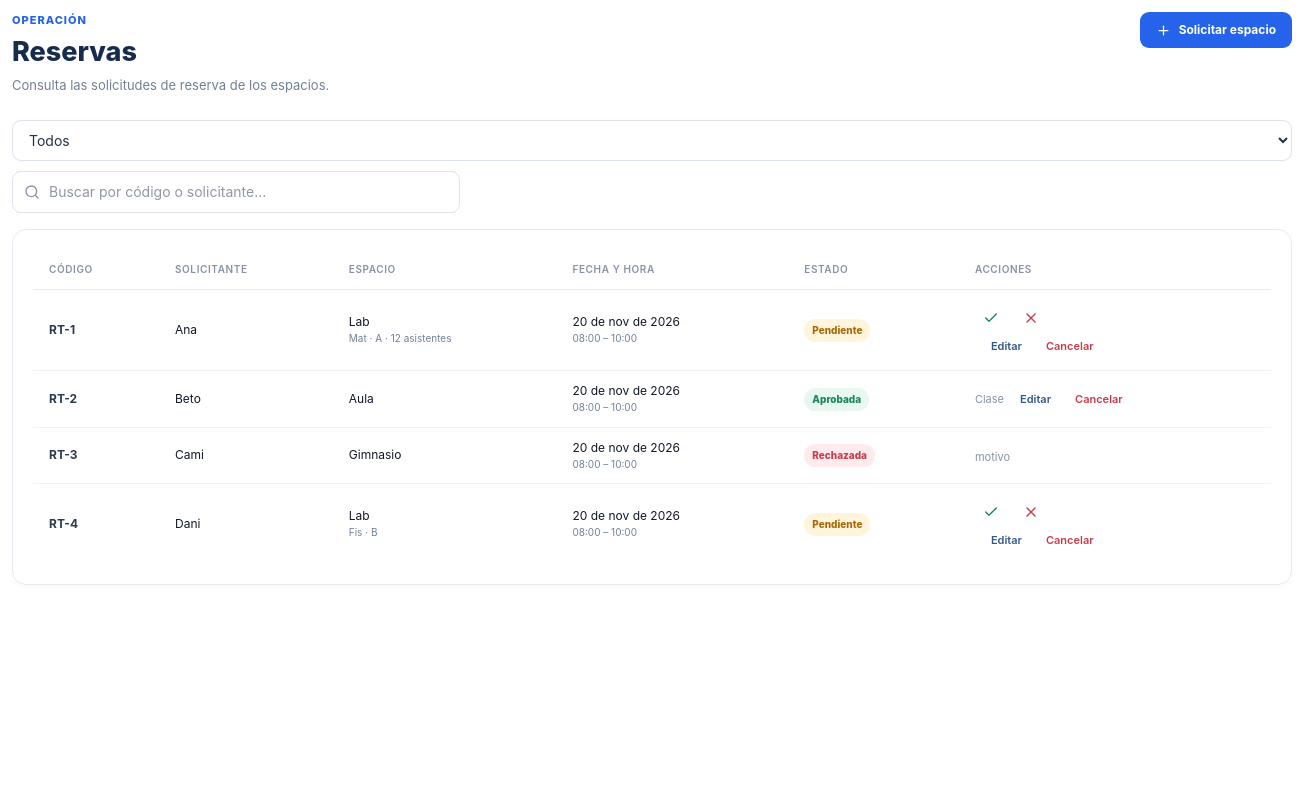
Test case: ReservationsPage · revisión › muestra el error si falla la revisión
Check: the text "RT-1" is shown, box x1=33 y1=289 x2=159 y2=371
Click the button named "Aprobar reserva" in the row of "RT-1".
click(991, 318)  # box x1=975 y1=302 x2=1007 y2=334
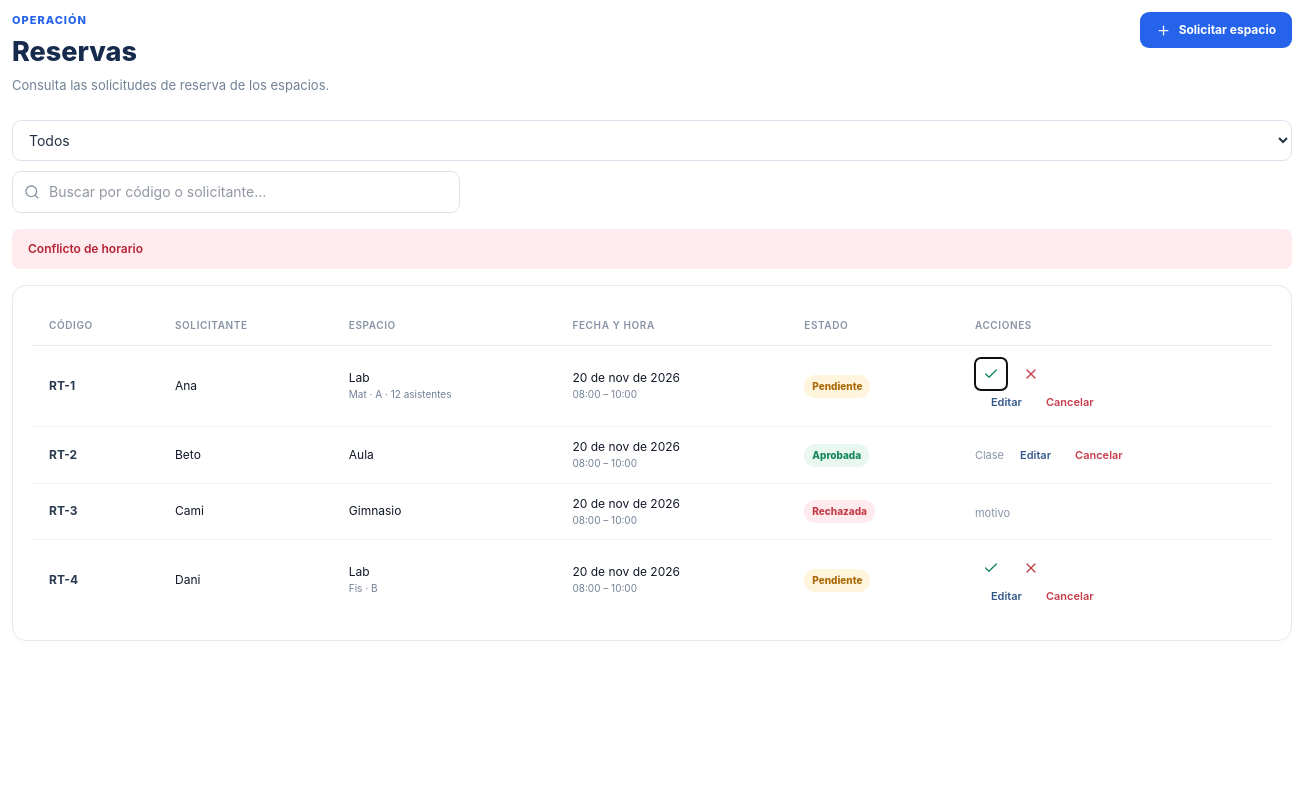
Check: the message reads "Conflicto de horario", box x1=28 y1=241 x2=143 y2=256
